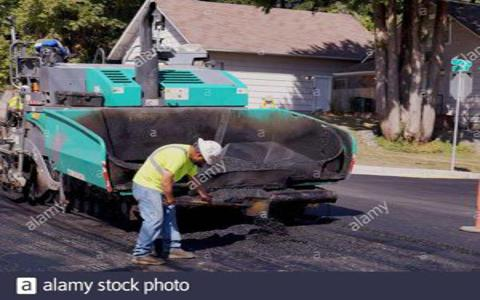Proper road: (360, 175, 470, 235)
